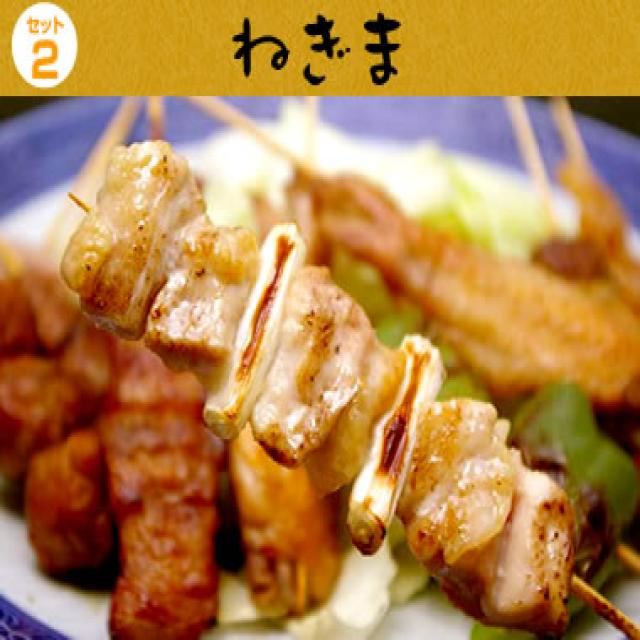烧串烤肉: (57, 131, 640, 640)
